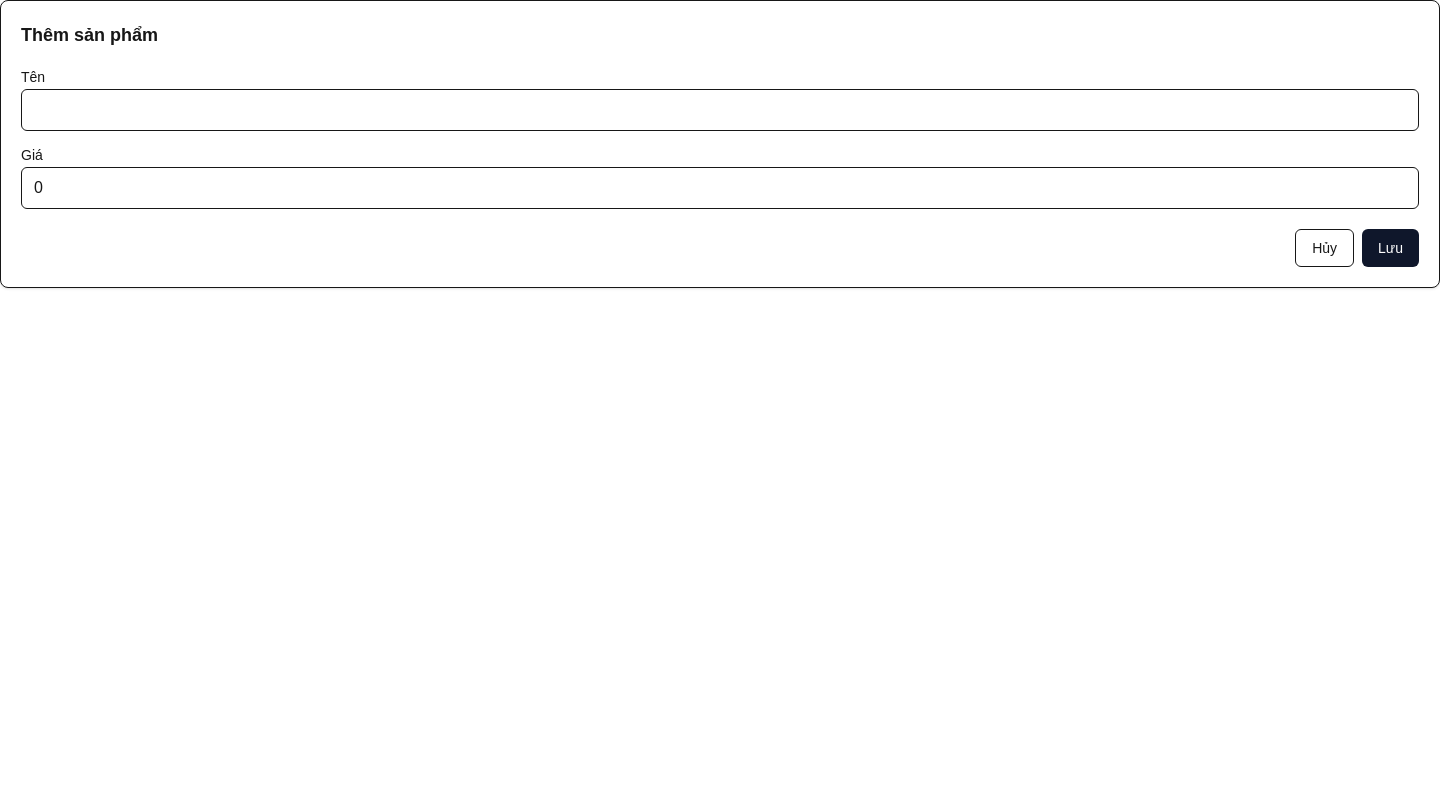
ResourceForm › shows a form-level banner for an error that names no field, and stays open
The image size is (1440, 810).
Type "Coca" into the field labelled "Tên". click: point(720, 110)
box: [21,89,1419,131]
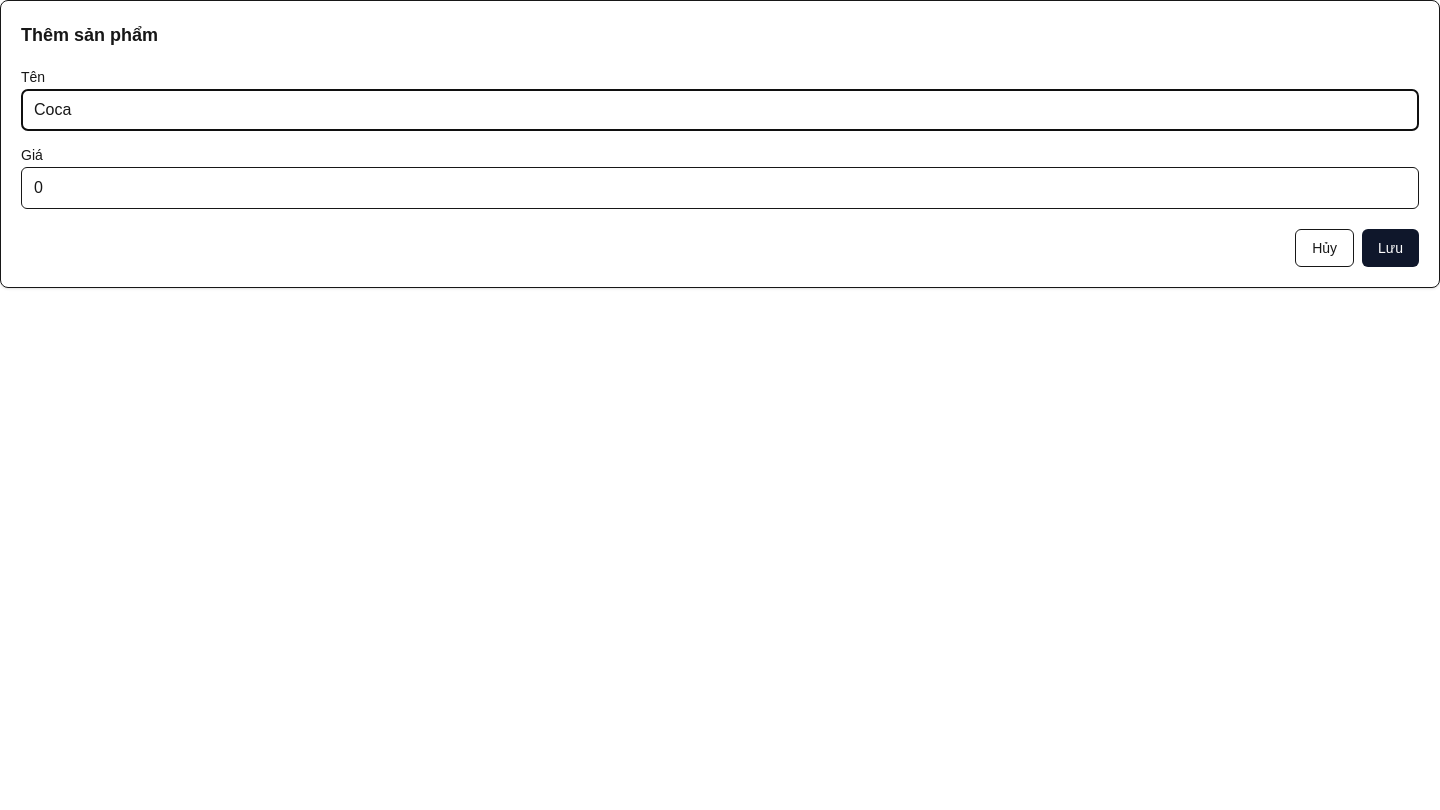
Click the button "Lưu". click: point(1390, 248)
box: [1362,229,1419,267]
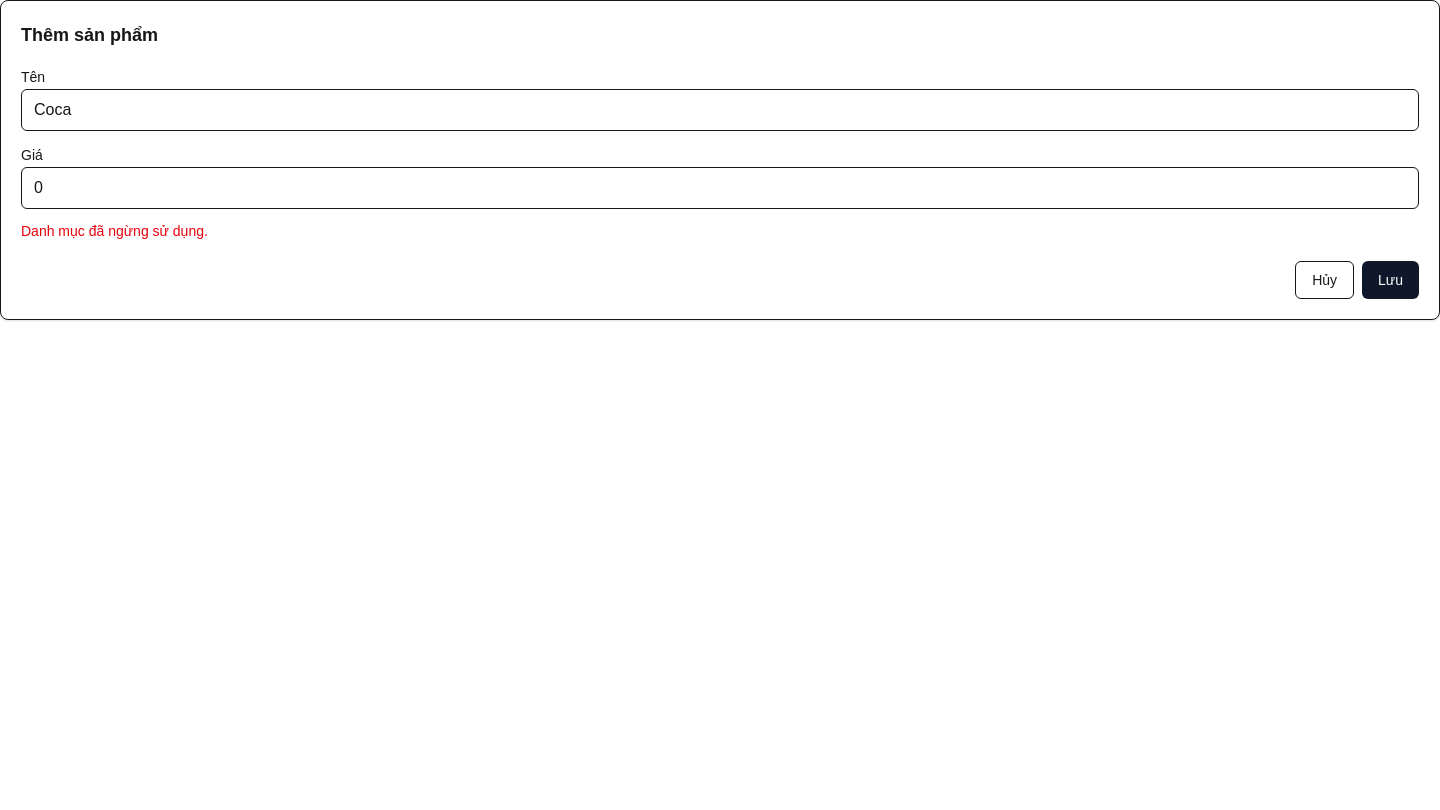
Expected: the message with test id "form-error" reads "Danh mục đã ngừng sử dụng.", [21,223,208,239]
